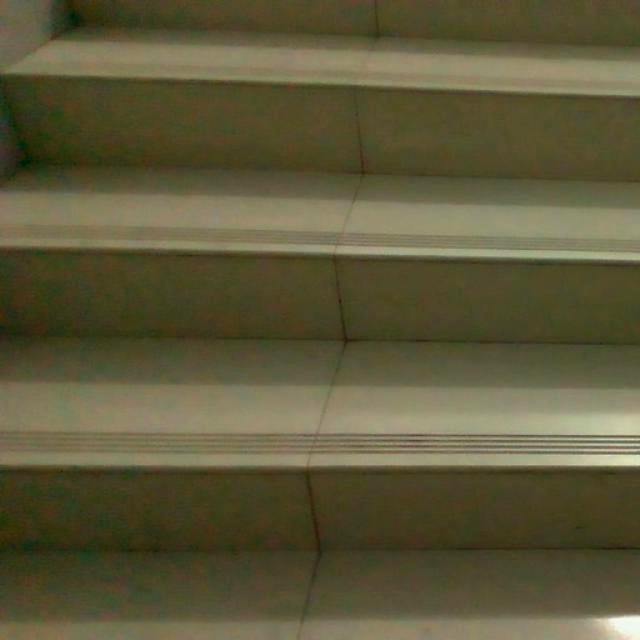stair: (43, 20, 640, 619)
